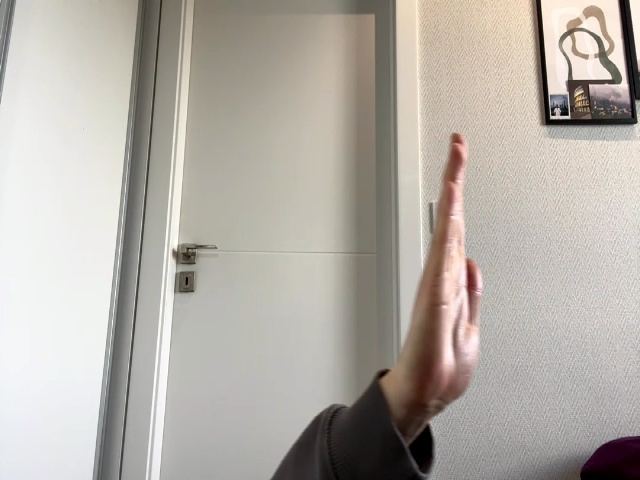SZ: (409, 132, 483, 413)
